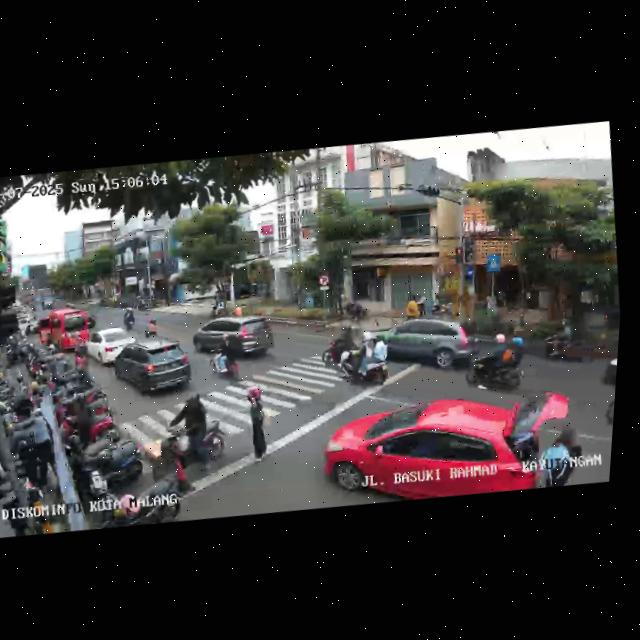car: (314, 379, 570, 514), (379, 309, 474, 381), (109, 330, 197, 401), (190, 309, 277, 366), (33, 307, 92, 356), (83, 324, 139, 368)
motorcycle: (152, 386, 234, 479), (317, 321, 394, 389), (461, 325, 534, 396), (539, 312, 613, 371), (206, 333, 245, 383), (120, 305, 138, 331), (143, 314, 160, 340)
person: (239, 386, 276, 467)
